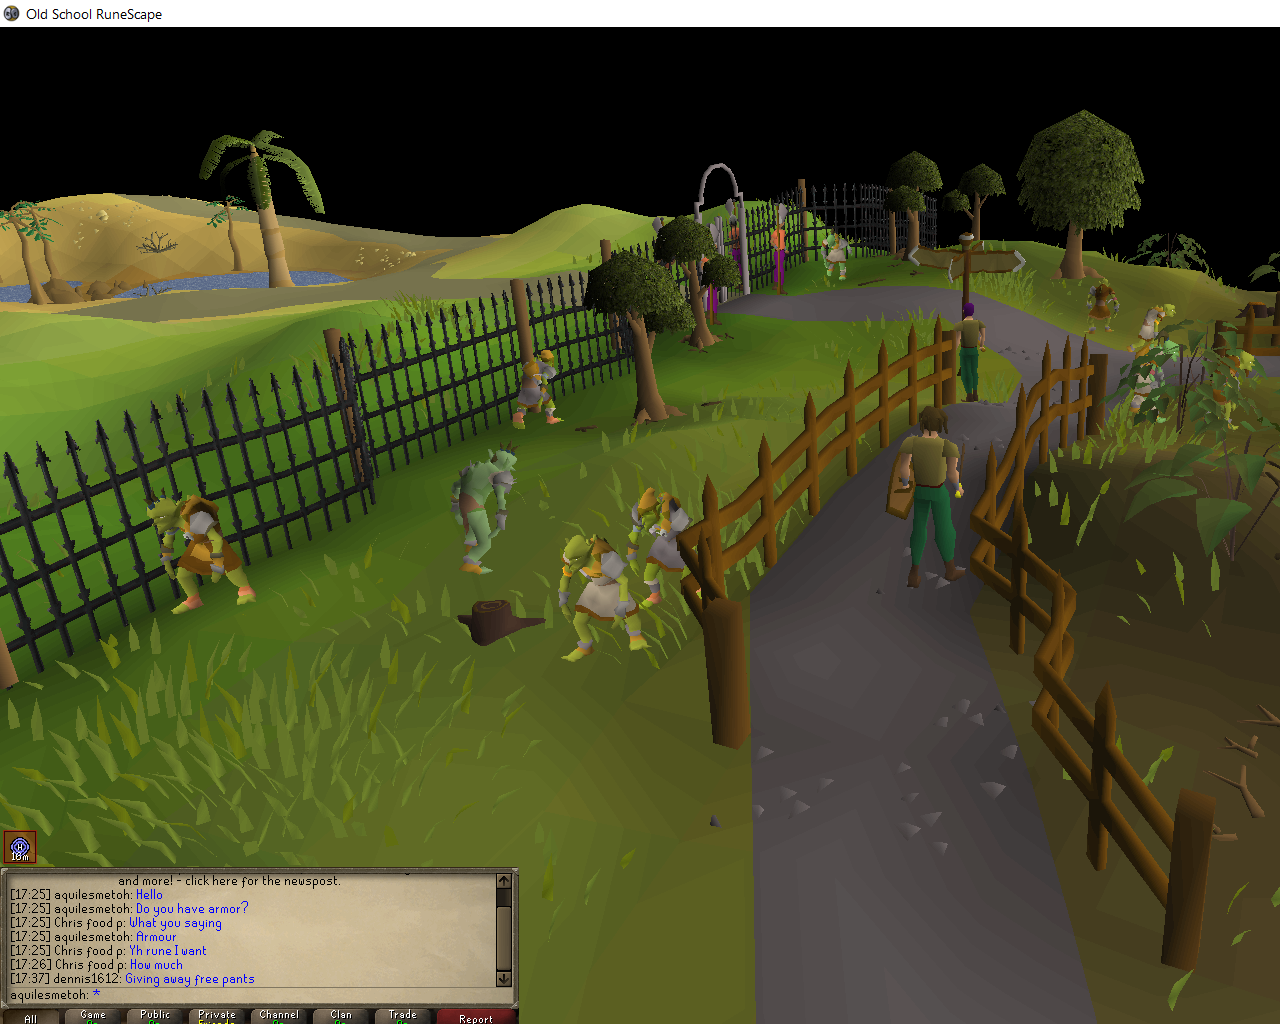Goblin: (139, 487, 261, 619), (555, 529, 653, 666), (625, 483, 719, 613), (447, 441, 521, 577), (1196, 342, 1259, 439), (507, 345, 563, 439), (1119, 354, 1170, 427), (1128, 294, 1180, 358), (1086, 273, 1123, 334), (816, 229, 854, 287)
